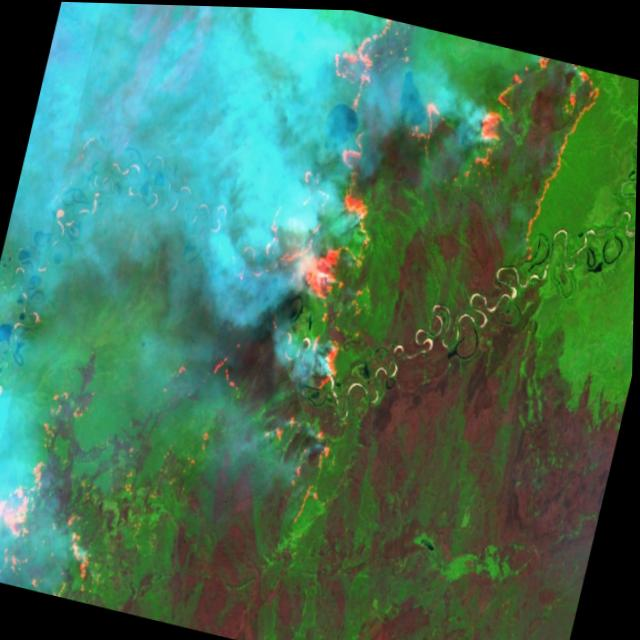fire: (0, 358, 180, 609), (433, 37, 610, 273), (238, 143, 392, 399), (297, 7, 442, 166)
